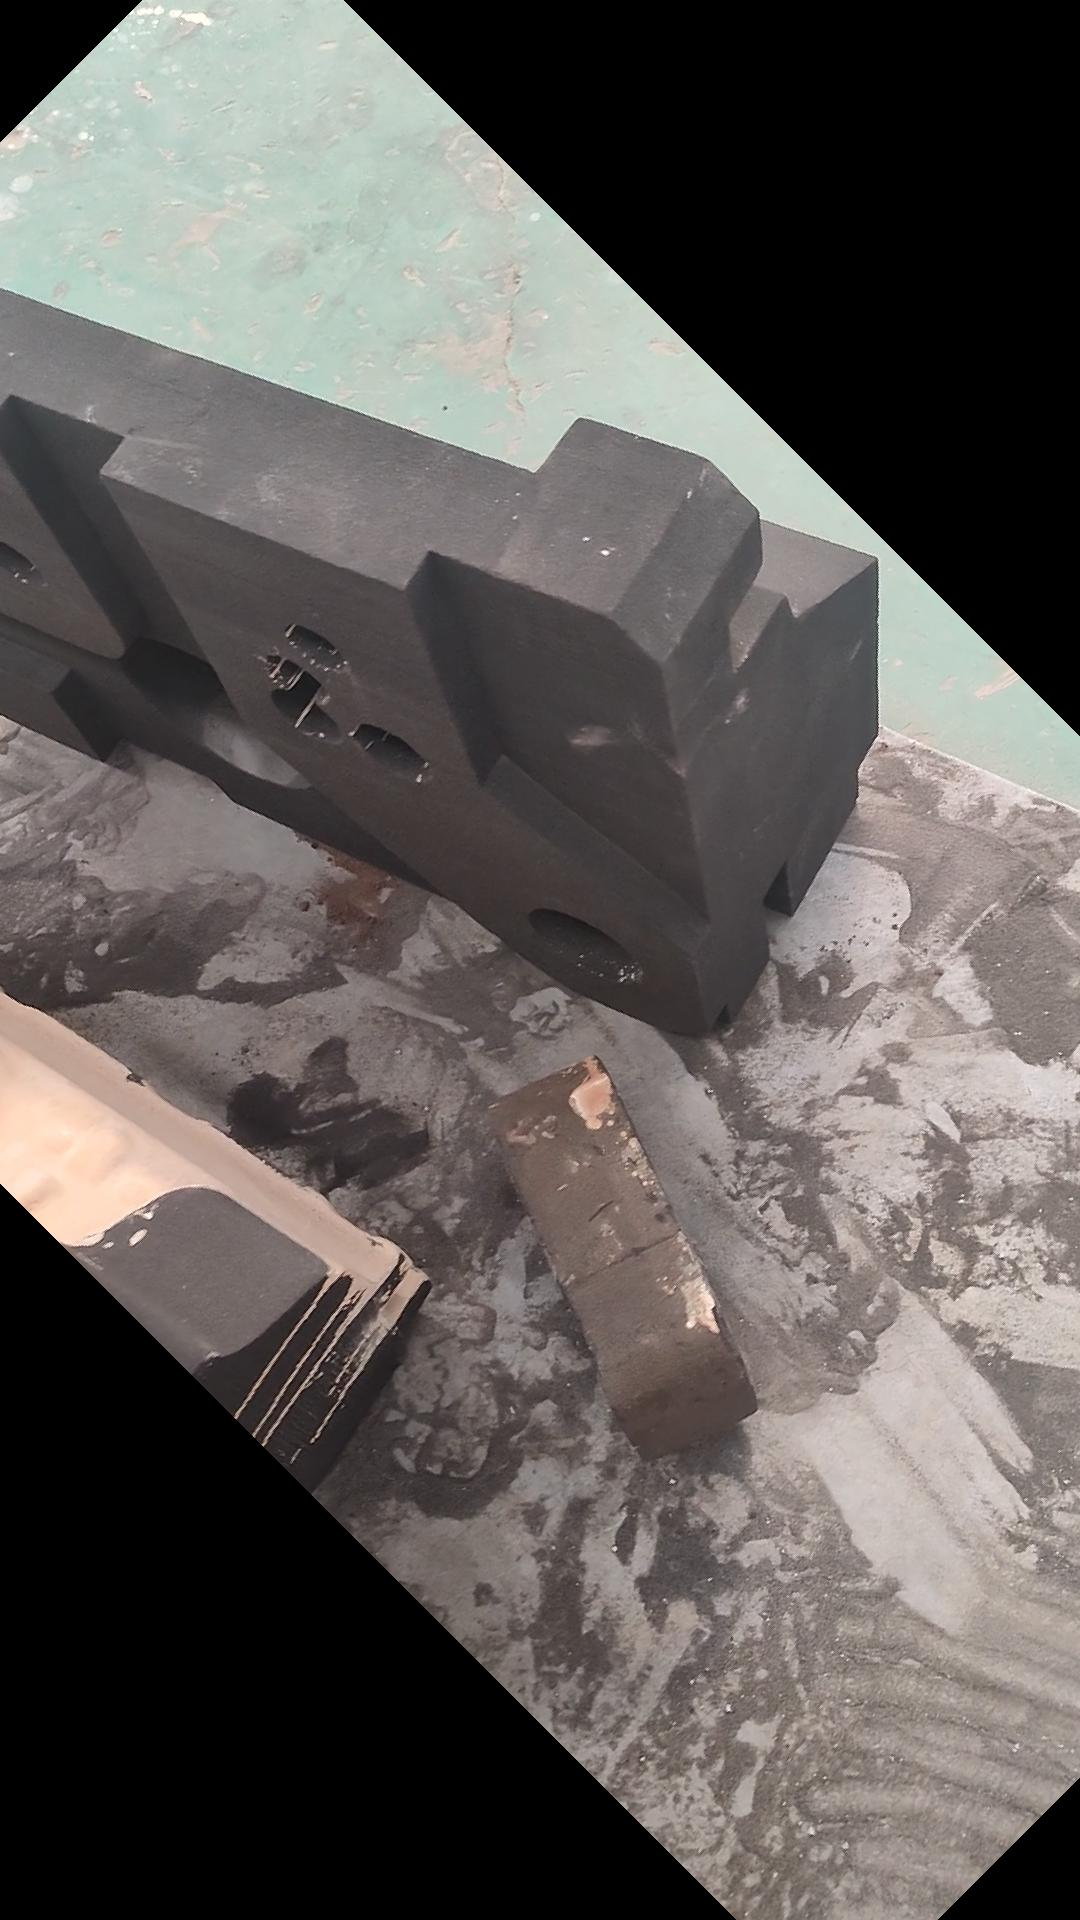pouring hole: (524, 905, 645, 993)
